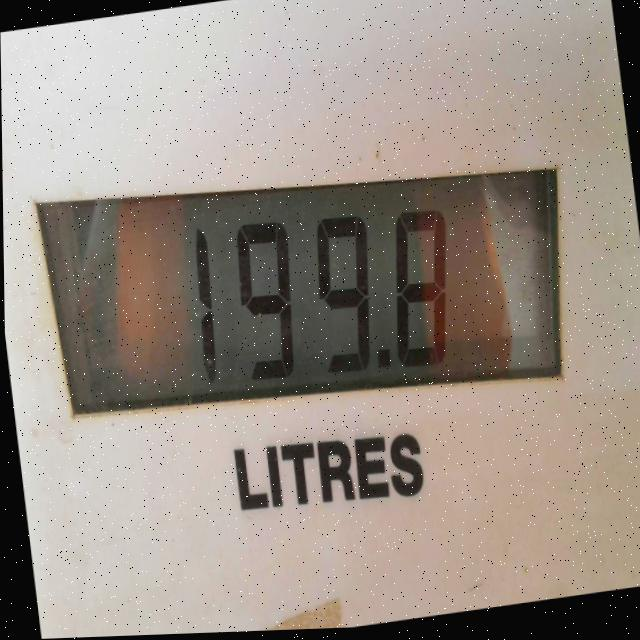.: (374, 345, 400, 392)
1: (173, 187, 238, 405)
8: (373, 202, 480, 425)
9: (224, 212, 312, 420), (306, 202, 383, 399)
